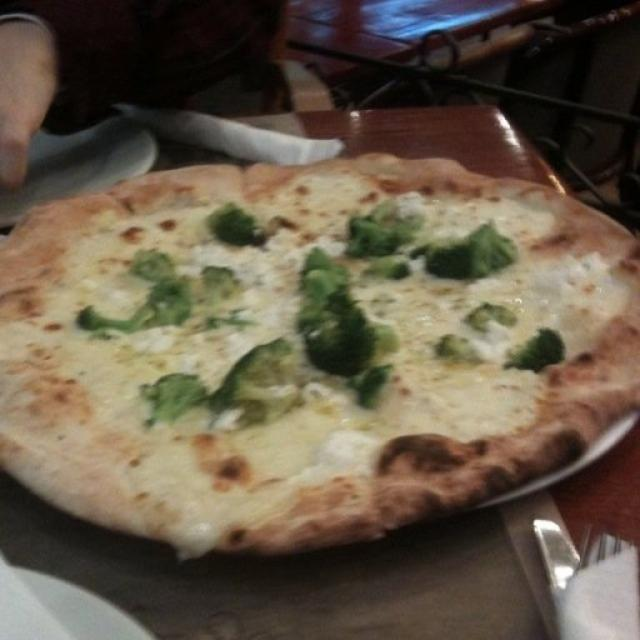Pizza: (0, 153, 640, 550)
